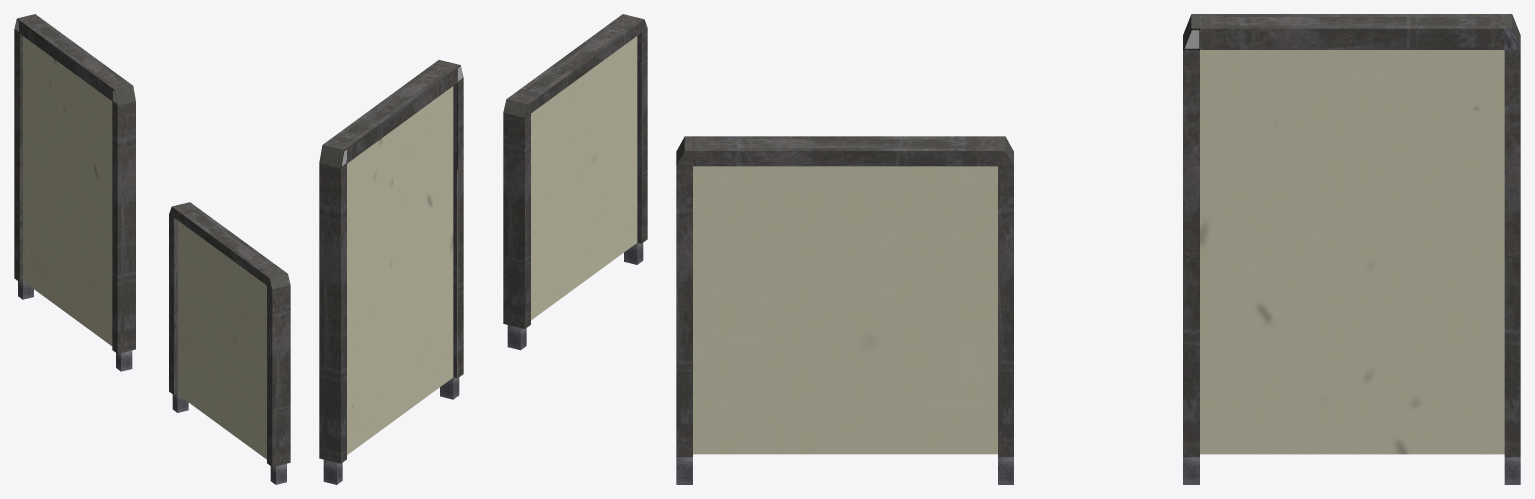
Rendered from office_tileset_cubby02.glb.
3 renders of one model, left to right at view 1: azimuth 30°, elevation 25°; view 2: azimuth 150°, elevation 25°; view 3: azimuth 270°, elevation 25°, orthographic. The views are drawn at different scales.
Parts seen in each view (by area): view 1: LargeCubby, SmallCubby; view 2: LargeCubby, SmallCubby; view 3: LargeCubby, SmallCubby.
Boxes of the visible parts, x1,y1,x2,y2 form: LargeCubby: (14,14,135,371); SmallCubby: (169,202,290,484); LargeCubby: (319,60,463,484); SmallCubby: (503,14,647,350); LargeCubby: (1183,14,1520,484); SmallCubby: (676,136,1013,484).
Size of what is drawn, in the model's own units: 0.205 by 3 by 5.
2 materials, 2 textured.
